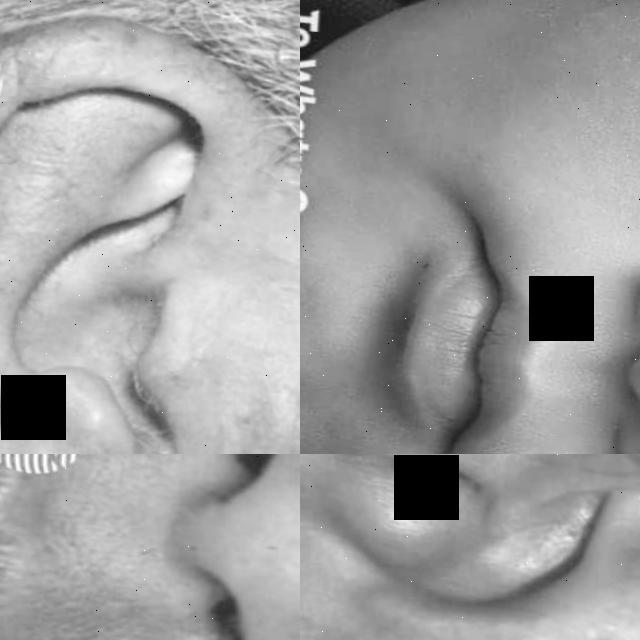lupus-detected: (238, 454, 300, 640)
